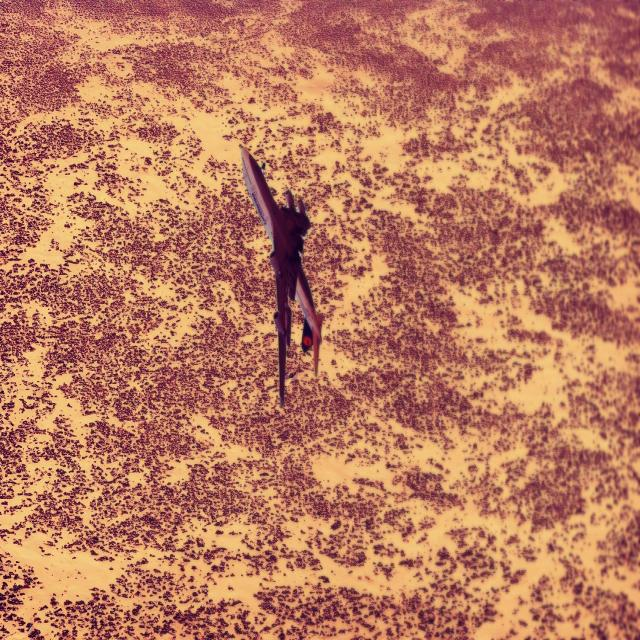airplane: (240, 146, 323, 408)
